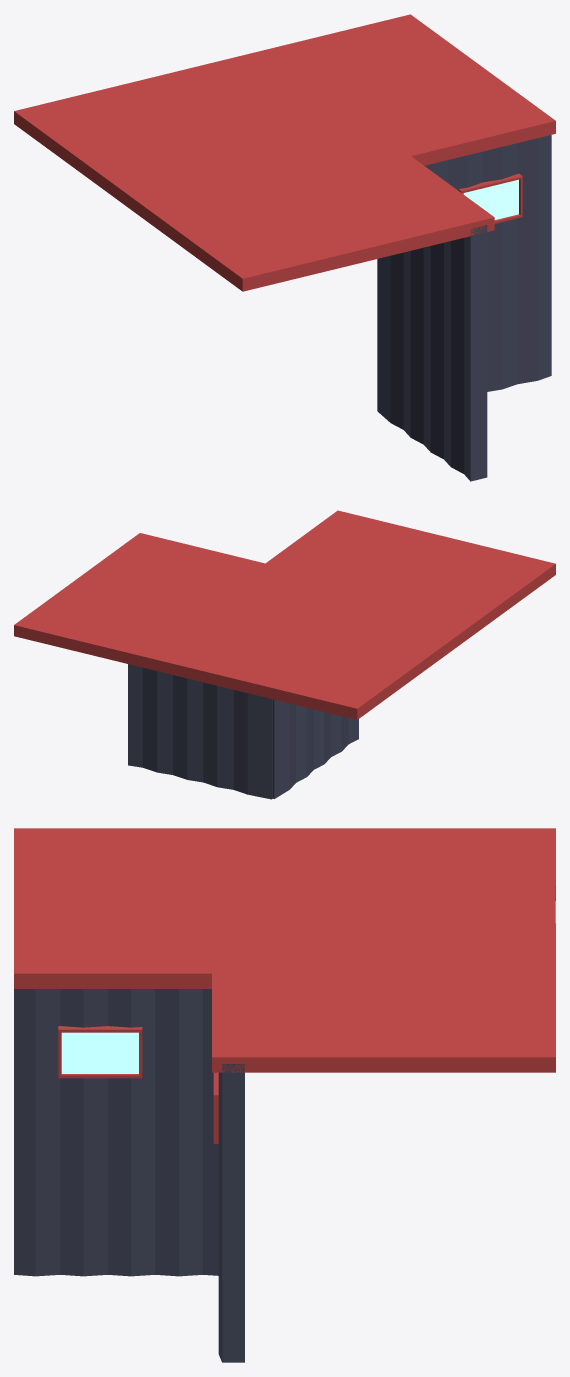
Rendered from small_wall_corner.fbx.
The picture shows the model from 3 angles, top to bottom: view 1: azimuth 30°, elevation 25°; view 2: azimuth 150°, elevation 25°; view 3: azimuth 270°, elevation 25°; orthographic projection. The views are drawn at different scales.
Parts seen in each view (by area): view 1: WarehouseInnerWall; view 2: WarehouseInnerWall; view 3: WarehouseInnerWall.
Part boxes in pixels (<box>): WarehouseInnerWall: <box>14,14,555,481</box>; WarehouseInnerWall: <box>14,510,555,799</box>; WarehouseInnerWall: <box>14,828,555,1362</box>.
Size of the model in its own units: 322 by 200 by 322.
